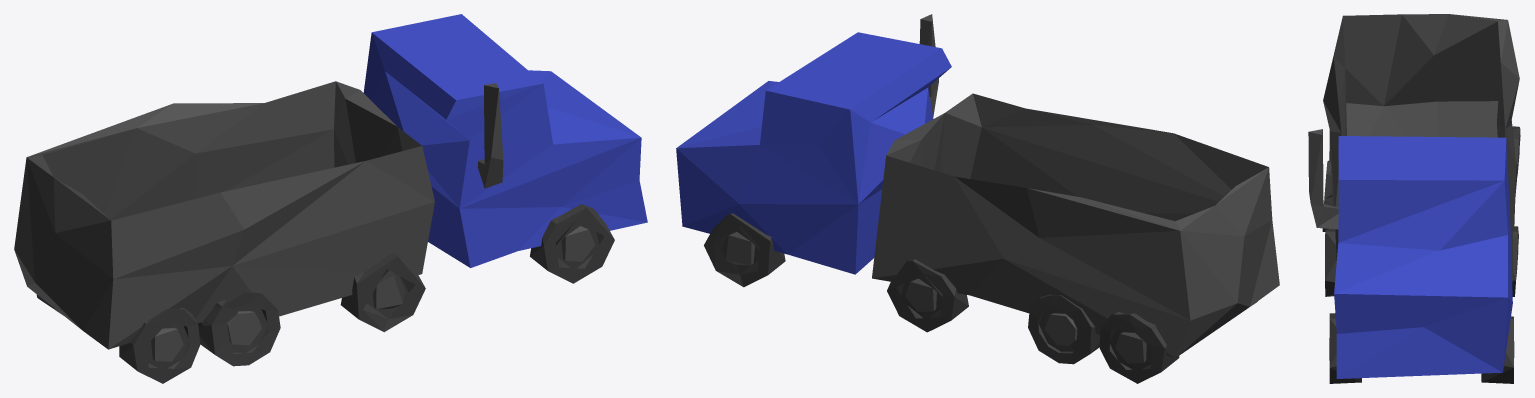
The model's file is Truck.fbx.
3 views of the same model, side by side, from view 1: azimuth 30°, elevation 25°; view 2: azimuth 150°, elevation 25°; view 3: azimuth 270°, elevation 25° (orthographic). The views are drawn at different scales.
Visible parts, largest first — view 1: Truck.001, Truck, Cylinder.000, Cylinder.002, Cylinder.001, Cylinder.007; view 2: Truck.001, Truck, Cylinder.004, Cylinder.006, Cylinder.003, Cylinder.005; view 3: Truck, Truck.001, Cylinder.003, Cylinder.001, Cylinder.002, Cylinder.004, Cylinder.000, Cylinder.006.
Part boxes in pixels (x1,y1,x2,y2): Truck.001: (14,81,503,349); Truck: (363,14,647,267); Cylinder.000: (197,291,280,366); Cylinder.002: (530,204,614,283); Cylinder.001: (340,252,425,332); Cylinder.007: (119,308,200,383); Truck.001: (872,14,1279,357); Truck: (676,32,951,274); Cylinder.004: (887,259,968,332); Cylinder.006: (1099,312,1179,383); Cylinder.003: (704,213,785,287); Cylinder.005: (1028,294,1099,364); Truck: (1334,136,1512,378); Truck.001: (1308,14,1519,281); Cylinder.003: (1481,316,1514,383); Cylinder.001: (1325,229,1336,296); Cylinder.002: (1329,313,1361,383); Cylinder.004: (1512,226,1518,296); Cylinder.000: (1322,160,1332,231); Cylinder.006: (1512,126,1520,196).
Size of the model in its own units: 698 by 272 by 248.
